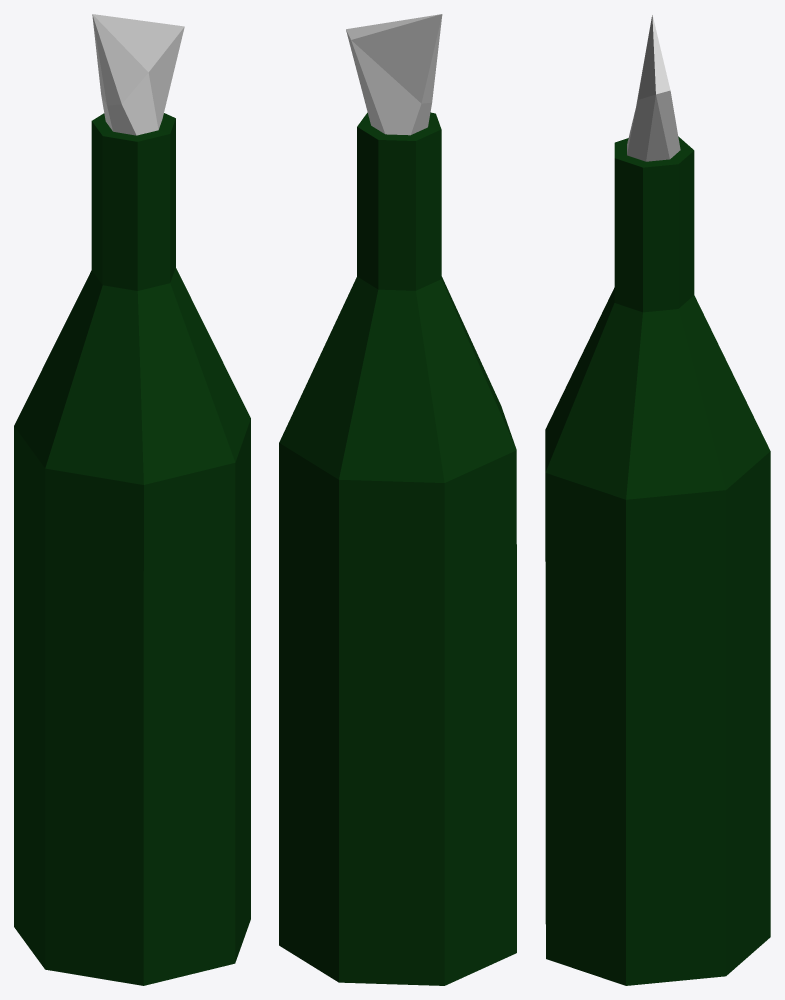
The model's file is molotov.fbx.
3 renders of one model, left to right at view 1: azimuth 30°, elevation 25°; view 2: azimuth 150°, elevation 25°; view 3: azimuth 270°, elevation 25°, orthographic. The views are drawn at different scales.
Parts seen in each view (by area): view 1: Cube; view 2: Cube; view 3: Cube.
Part boxes in pixels (<box>): Cube: <box>14,14,250,985</box>; Cube: <box>279,14,516,985</box>; Cube: <box>545,15,770,985</box>.
Size of the model in its own units: 0.0497 by 0.2148 by 0.0485.
